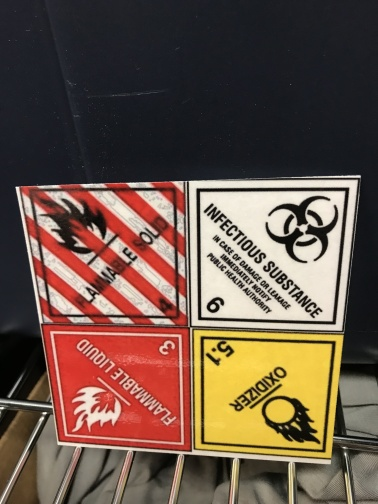FlammableSolid: (20, 180, 191, 328), (41, 325, 195, 451)
InfectiousSubstance: (188, 177, 365, 332)
Oxidizer: (194, 330, 335, 458)
